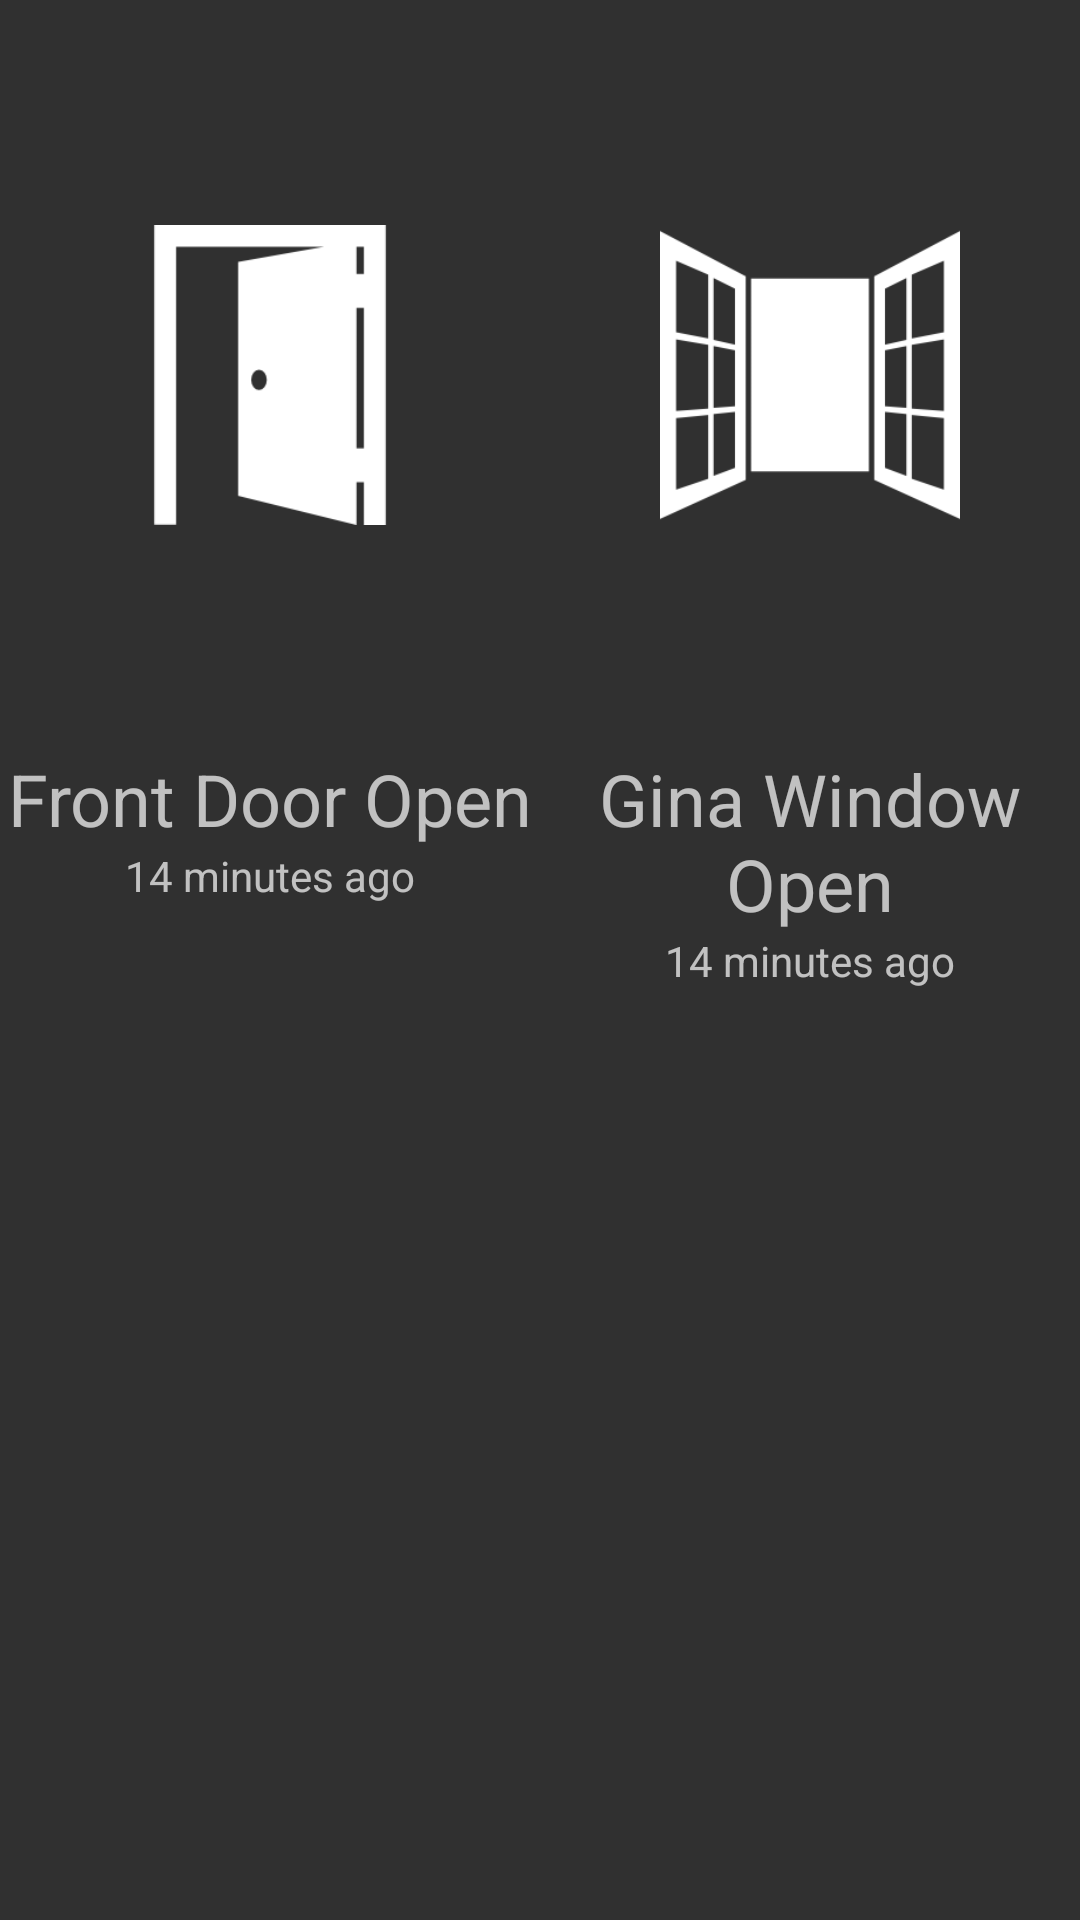

Named icons in this screenshot (1080w x 1920h) and their centers, [x,y]:
open door entrance: [270,375]
